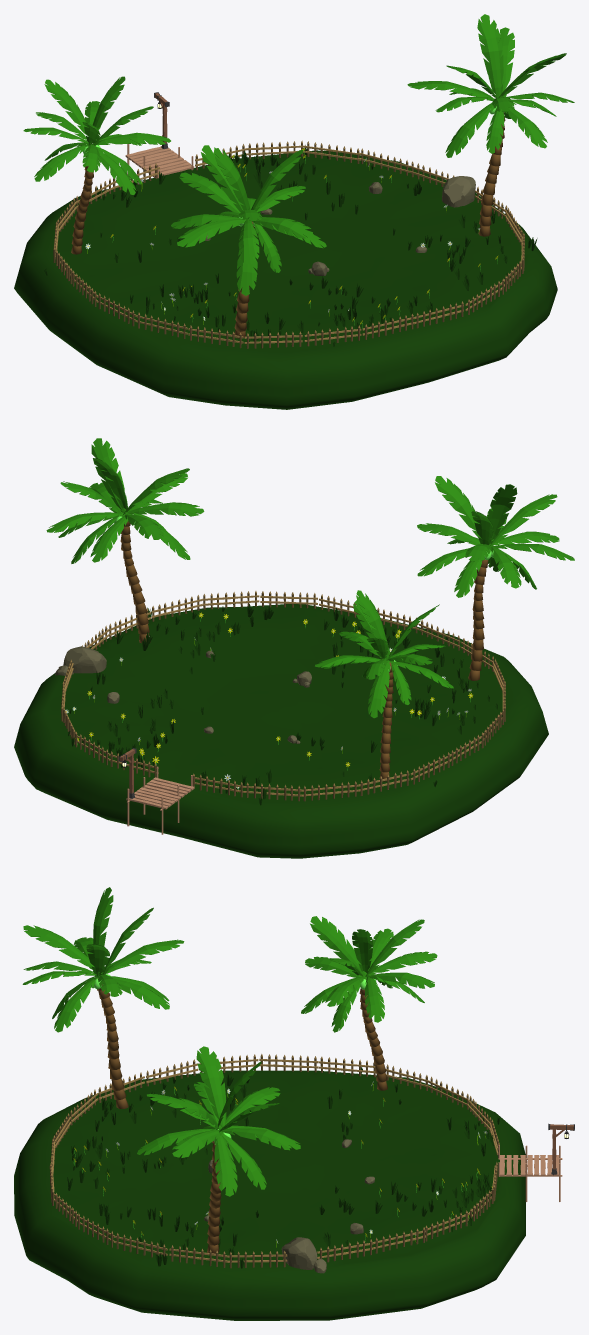
File: object_island.glb
The picture shows the model from 3 angles, top to bottom: view 1: azimuth 30°, elevation 25°; view 2: azimuth 150°, elevation 25°; view 3: azimuth 270°, elevation 25°; orthographic projection. The views are drawn at different scales.
Parts seen in each view (by area): view 1: Island, Fences, Tree, Tree.001, Tree.002, Rock, Port; view 2: Island, Tree, Fences, Tree.001, Tree.002, Port, Rock; view 3: Island, Fences, Tree.001, Tree, Tree.002, Rock, Port.
Boxes of the visible parts, x1=… form: Island: x1=14, y1=150, x2=557, y2=409; Fences: x1=53, y1=140, x2=524, y2=348; Tree: x1=171, y1=145, x2=326, y2=338; Tree.001: x1=407, y1=14, x2=574, y2=236; Tree.002: x1=23, y1=76, x2=170, y2=254; Rock: x1=198, y1=176, x2=475, y2=275; Port: x1=125, y1=135, x2=194, y2=178; Island: x1=14, y1=604, x2=548, y2=858; Tree: x1=417, y1=476, x2=574, y2=680; Fences: x1=61, y1=591, x2=505, y2=801; Tree.001: x1=46, y1=438, x2=204, y2=643; Tree.002: x1=315, y1=590, x2=453, y2=781; Port: x1=126, y1=766, x2=194, y2=834; Rock: x1=55, y1=646, x2=311, y2=743; Island: x1=14, y1=1070, x2=525, y2=1320; Fences: x1=49, y1=1054, x2=499, y2=1268; Tree.001: x1=137, y1=1046, x2=300, y2=1253; Tree: x1=22, y1=887, x2=184, y2=1108; Tree.002: x1=301, y1=916, x2=437, y2=1090; Rock: x1=204, y1=1139, x2=374, y2=1273; Port: x1=498, y1=1145, x2=562, y2=1201.
Size of the model in its own units: 179 by 99.35 by 183.
